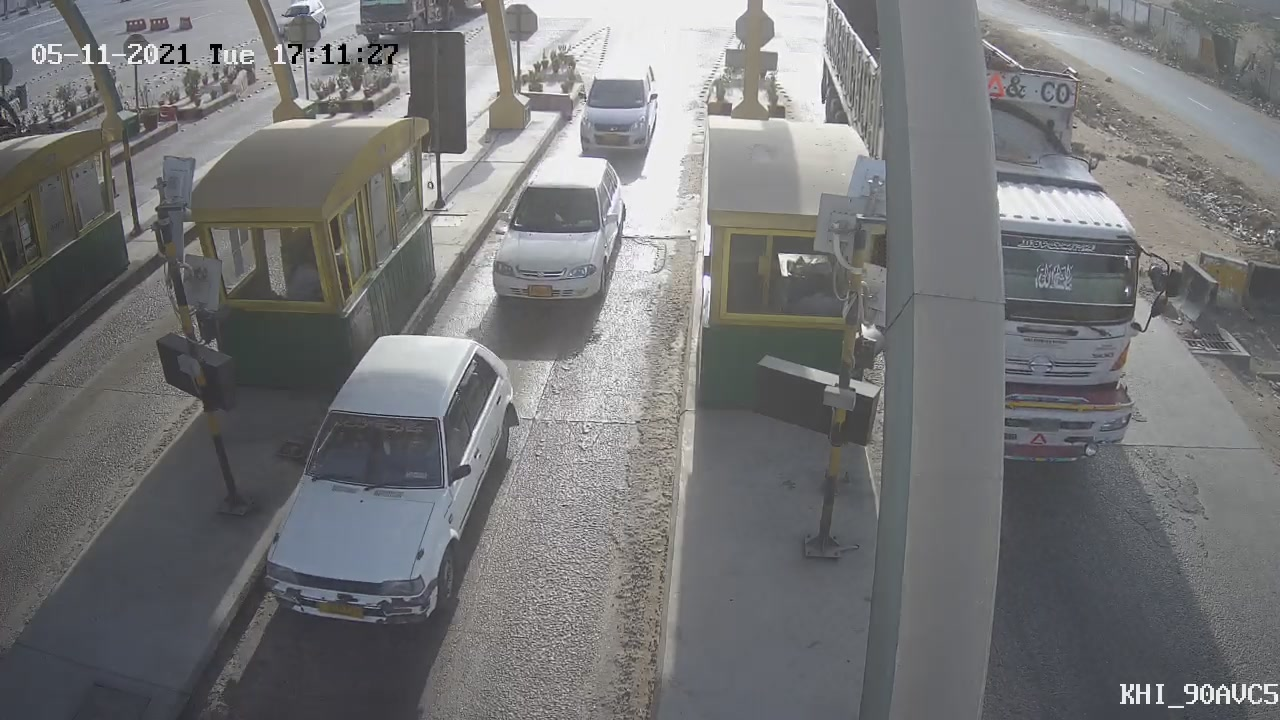F1: (474, 144, 646, 320), (552, 48, 672, 170)
